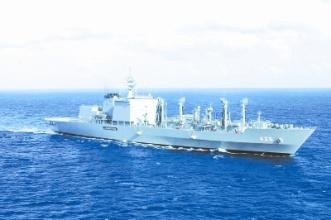warship: (41, 66, 319, 153)
